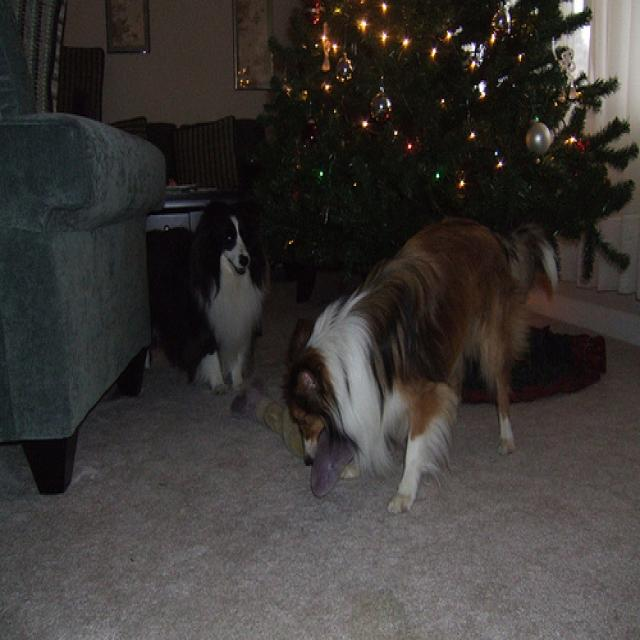chair: (0, 8, 148, 547)
dog: (298, 220, 601, 540), (144, 181, 289, 413)
